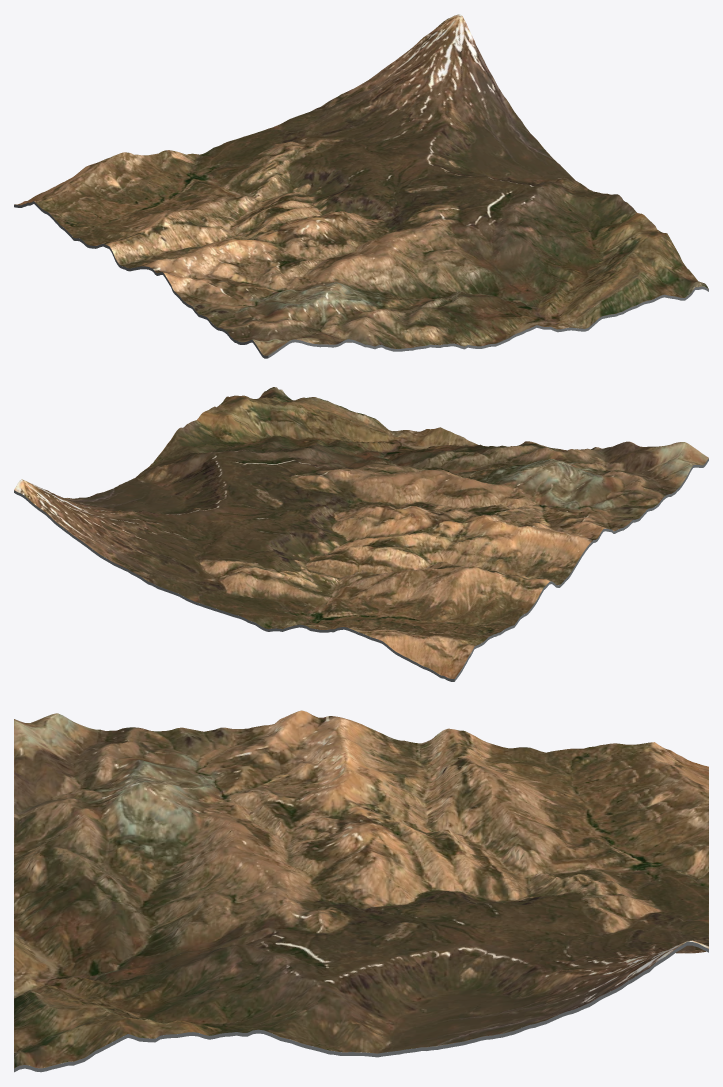
3 views of the same model, one above another, from view 1: azimuth 30°, elevation 25°; view 2: azimuth 150°, elevation 25°; view 3: azimuth 270°, elevation 25° (orthographic). The views are drawn at different scales.
Visible parts, largest first — view 1: terrain, skirt; view 2: terrain, skirt; view 3: terrain, skirt.
Part boxes in pixels (x1,y1,x2,y2): terrain: (14,14,708,355); skirt: (14,201,708,358); terrain: (14,387,708,678); skirt: (14,458,708,681); terrain: (14,710,708,1068); skirt: (14,941,708,1072).
Bounding box in the file's own units: 15000 × 3420 × 15000.
1 material, 1 textured.
